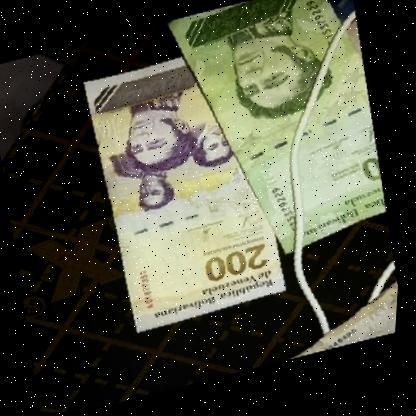fifty-front-vef: (154, 0, 404, 269)
two_hundred-front-vef: (71, 45, 305, 341)
